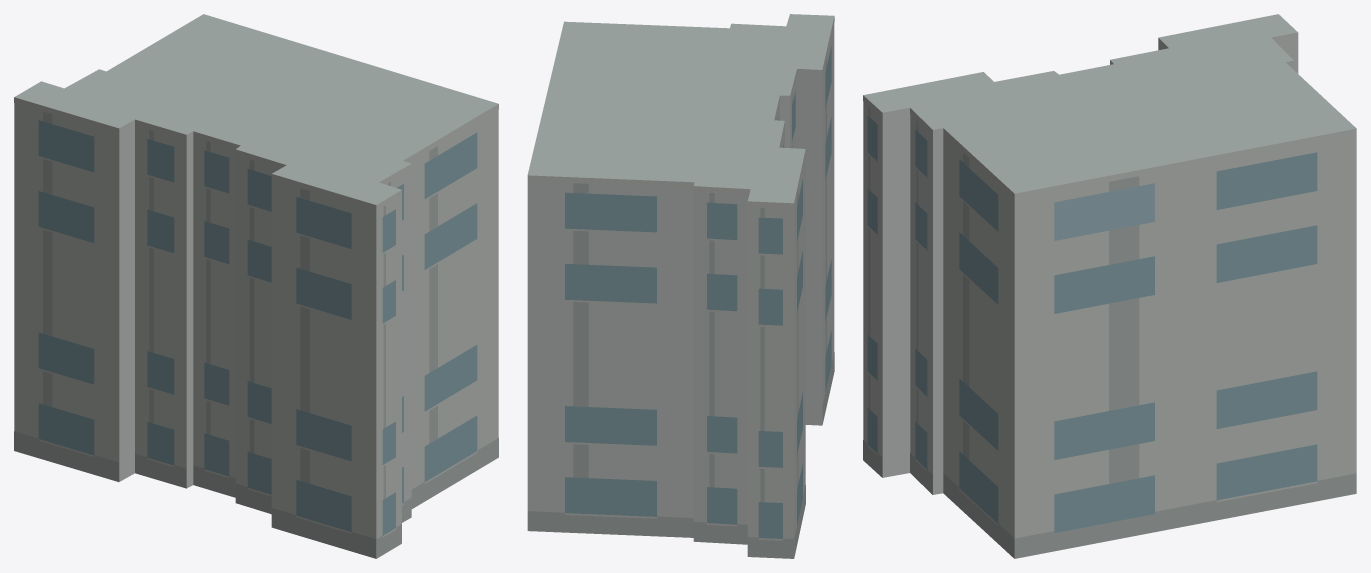
The model's file is survey-upis-32698933.glb.
The picture shows the model from 3 angles, left to right: view 1: azimuth 30°, elevation 25°; view 2: azimuth 150°, elevation 25°; view 3: azimuth 270°, elevation 25°; orthographic projection. The views are drawn at different scales.
Visible parts, largest first — view 1: survey-upis-32698933.tmp; view 2: survey-upis-32698933.tmp; view 3: survey-upis-32698933.tmp.
Part boxes in pixels (x1,y1,x2,y2): survey-upis-32698933.tmp: (14,14,498,558); survey-upis-32698933.tmp: (527,14,834,558); survey-upis-32698933.tmp: (863,14,1356,558).
Size of the model in its own units: 15.37 by 14.55 by 17.83.
